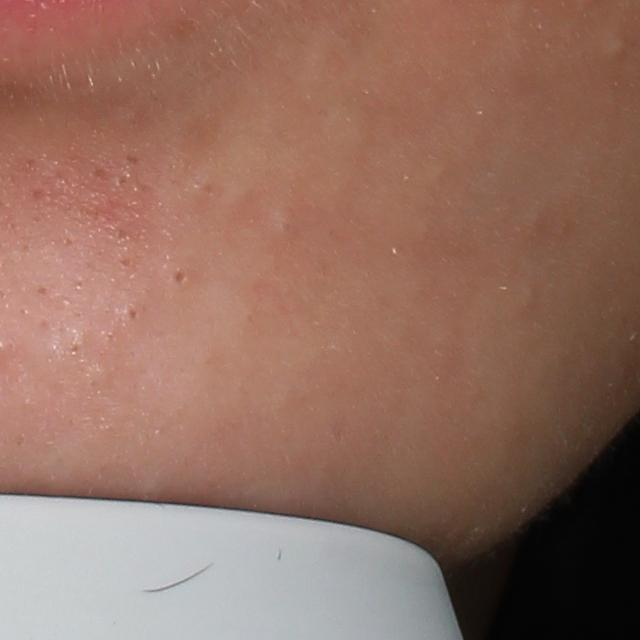comedo: (166, 263, 194, 296), (271, 210, 296, 243), (119, 298, 145, 329), (602, 37, 626, 63)
